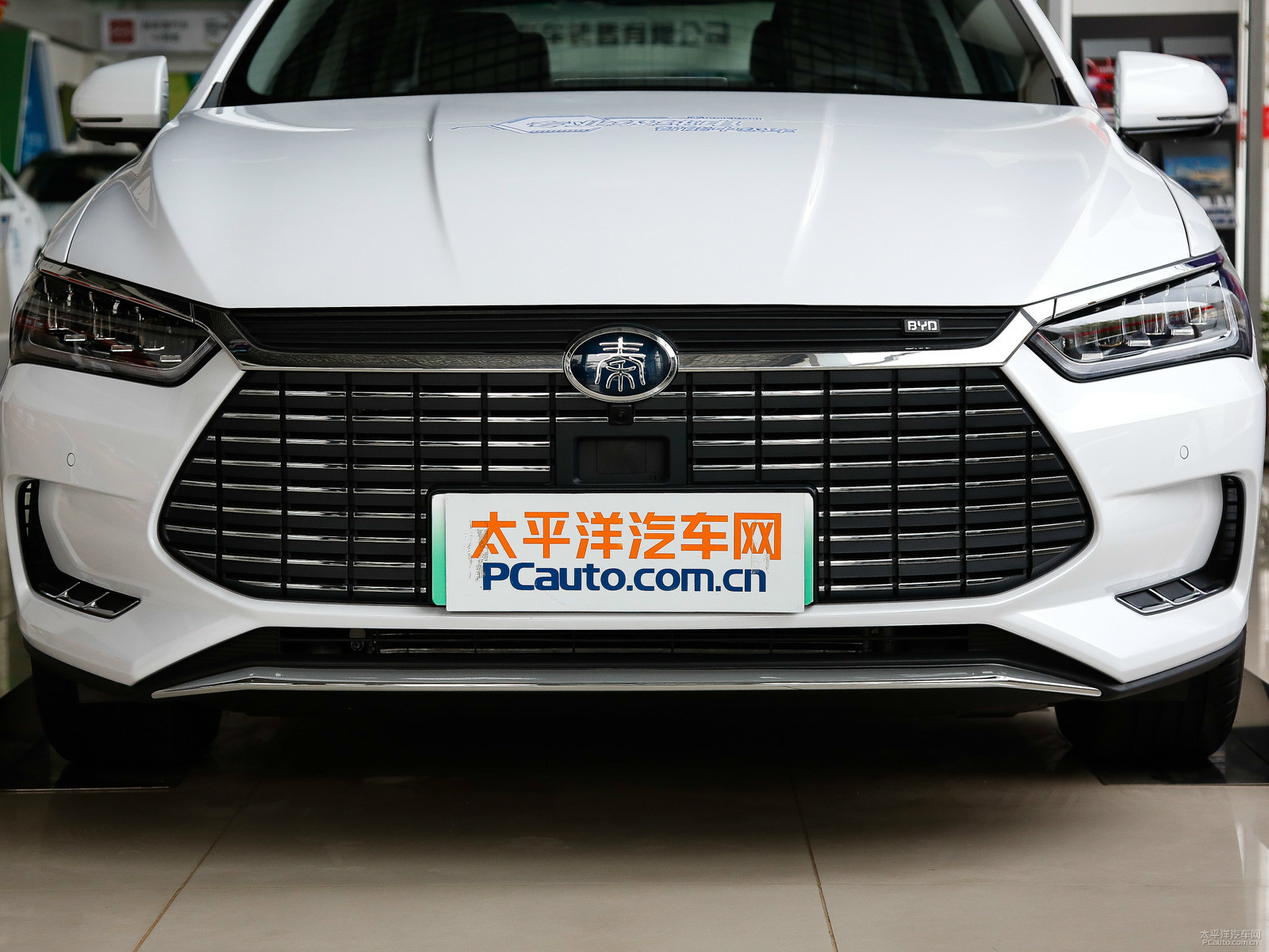BYD Qin: (565, 327, 677, 402)
